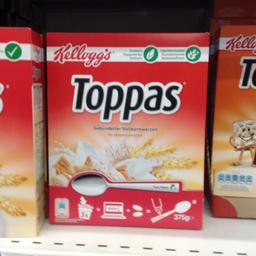cereal: (45, 30, 208, 228), (210, 24, 252, 219)
